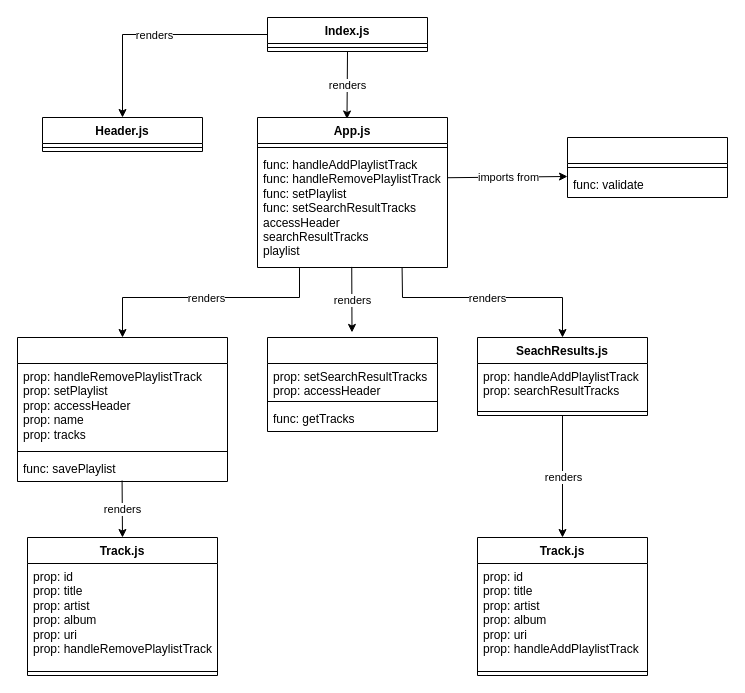
Image size: 745x693. Some labels were removed from this diagram. Here are the shapes that lost their labels. From the top down, the box of each, then its label:
(566, 136, 728, 198): login.js
(266, 336, 438, 432): SearchBar.js
(16, 336, 228, 482): Playlist.js
